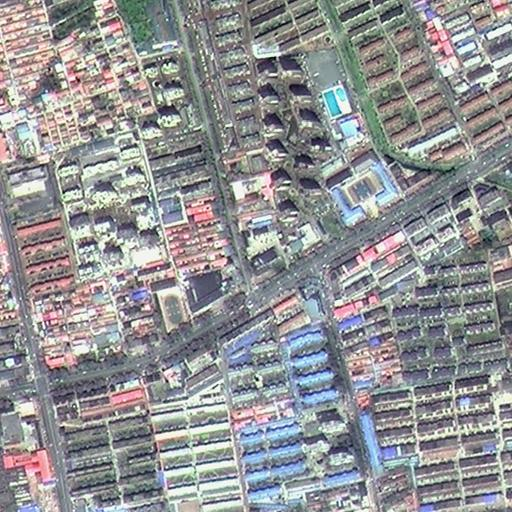school: (156, 267, 233, 335)
